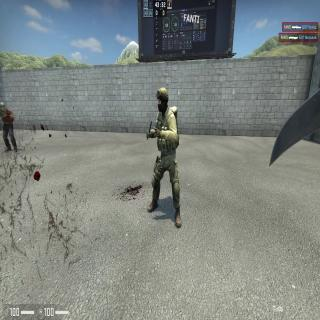CT-Body: (152, 90, 178, 218)
CT-Head: (157, 88, 168, 113)
T-Body: (0, 102, 14, 153)
T-Head: (0, 102, 5, 112)
